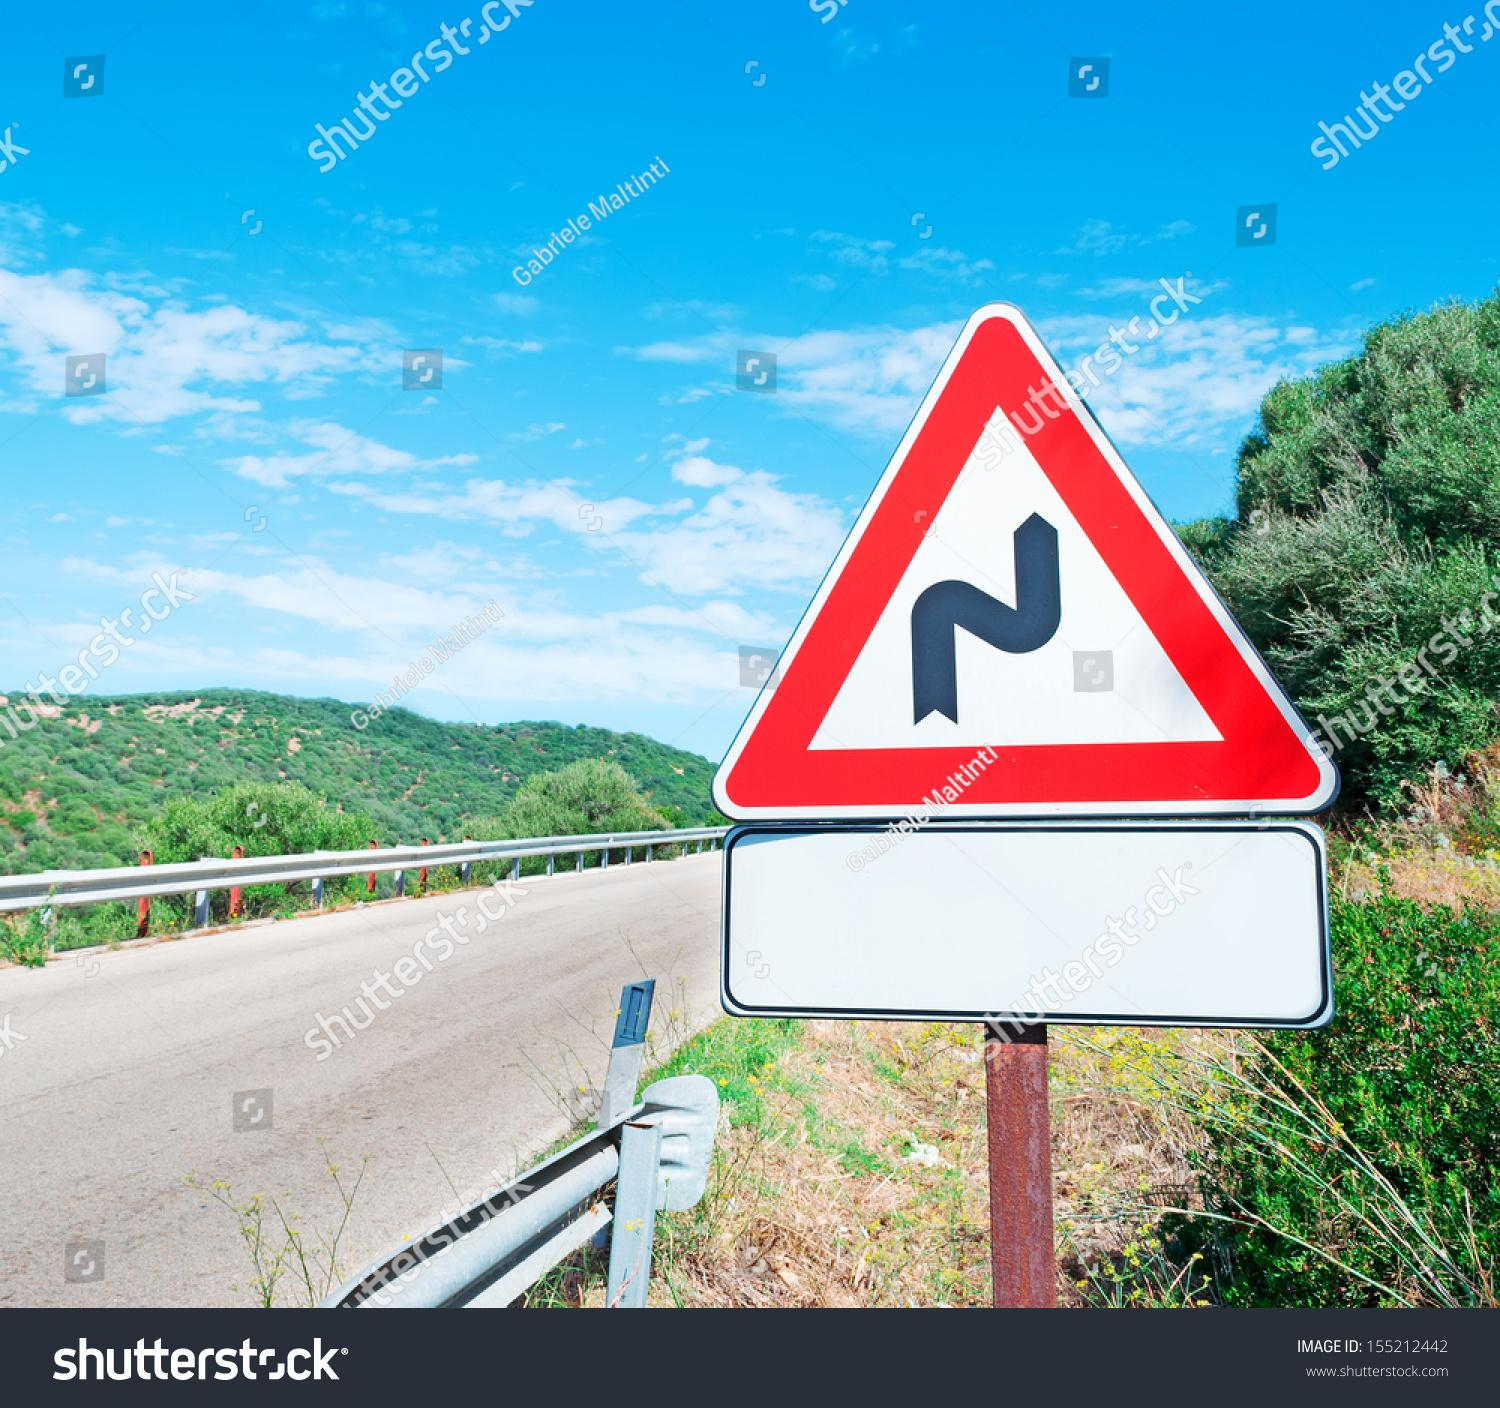Right Reverse Bend: (761, 344, 1213, 802)
